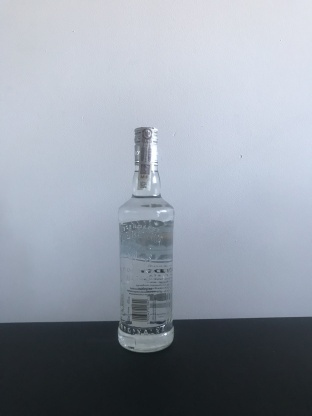nakretka: (132, 123, 160, 168)
